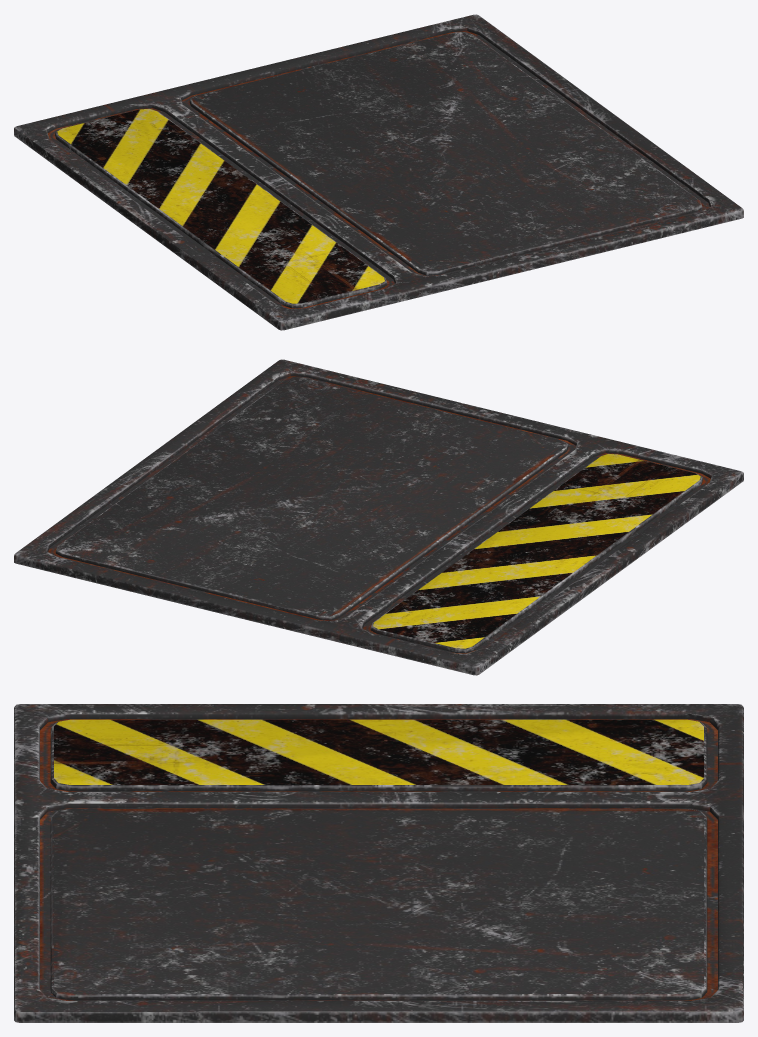
Rendered from SUELOPRECAUCION.glb.
3 views of the same model, one above another, from view 1: azimuth 30°, elevation 25°; view 2: azimuth 150°, elevation 25°; view 3: azimuth 270°, elevation 25° (orthographic). The views are drawn at different scales.
Parts seen in each view (by area): view 1: Plane; view 2: Plane; view 3: Plane.
Boxes of the visible parts, <box> form: Plane: <box>14,14,743,330</box>; Plane: <box>14,359,743,675</box>; Plane: <box>14,704,743,1022</box>.
Bounding box in the file's own units: 200 × 3.47 × 200.
3 materials, 3 textured.
